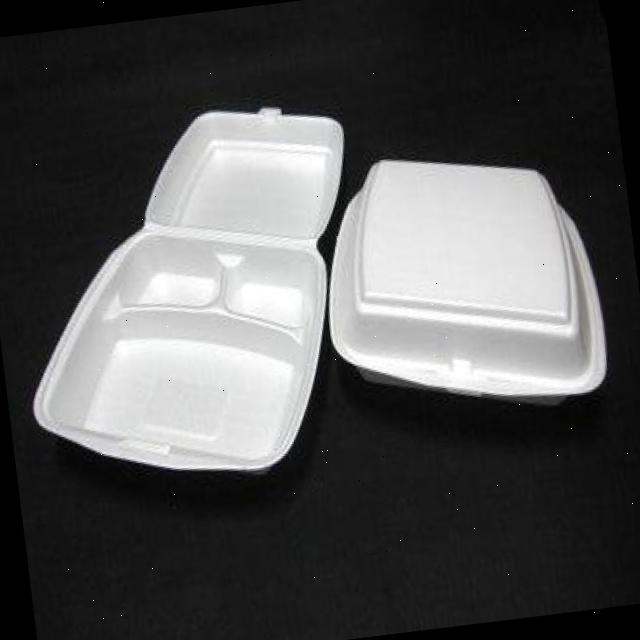styrofoam: (0, 89, 383, 500), (307, 130, 614, 430)
